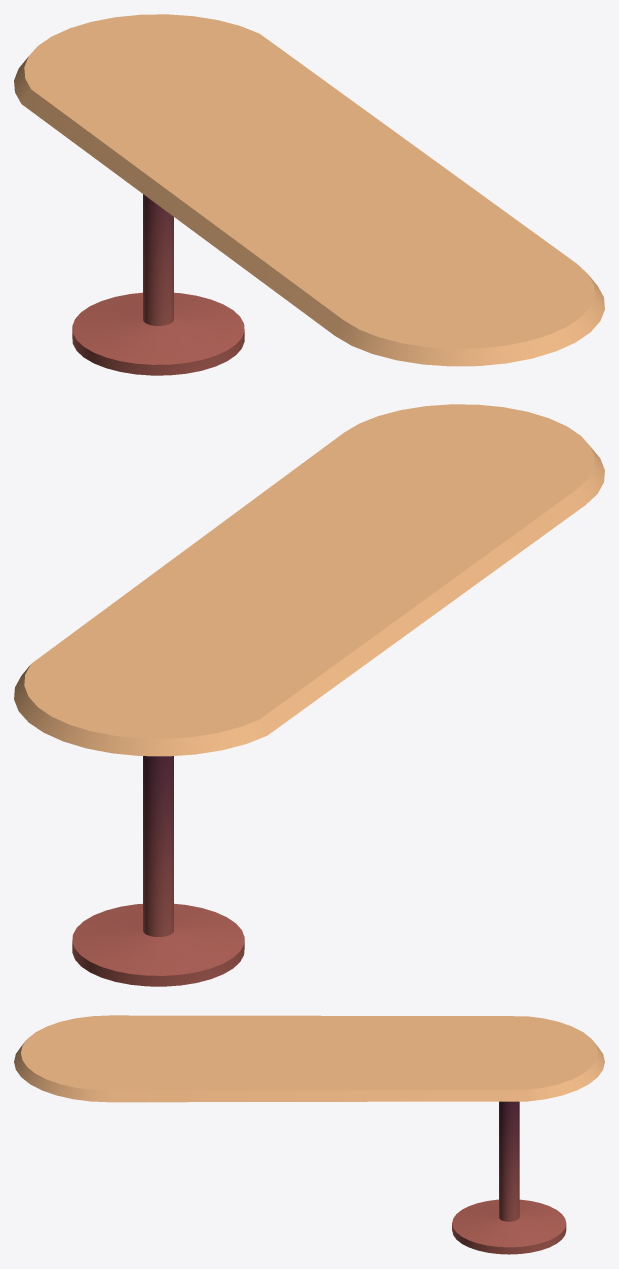
The model's file is Table long.fbx.
3 views of the same model, one above another, from view 1: azimuth 30°, elevation 25°; view 2: azimuth 150°, elevation 25°; view 3: azimuth 270°, elevation 25° (orthographic). The views are drawn at different scales.
Visible parts, largest first — view 1: Table long; view 2: Table long; view 3: Table long.
Part boxes in pixels (x1=…): Table long: x1=14, y1=14, x2=604, y2=375; Table long: x1=14, y1=404, x2=604, y2=986; Table long: x1=14, y1=1015, x2=604, y2=1254.
Bounding box in the file's own units: 0.7751 × 0.792 × 2.39.
